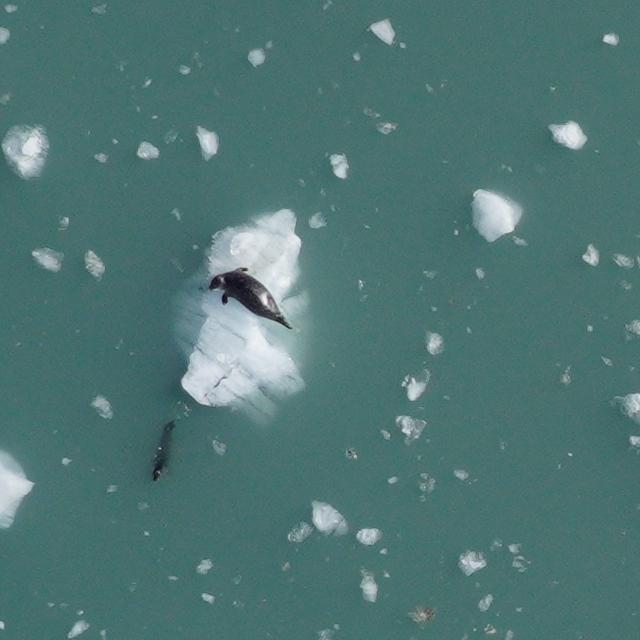seal: (204, 263, 297, 334)
